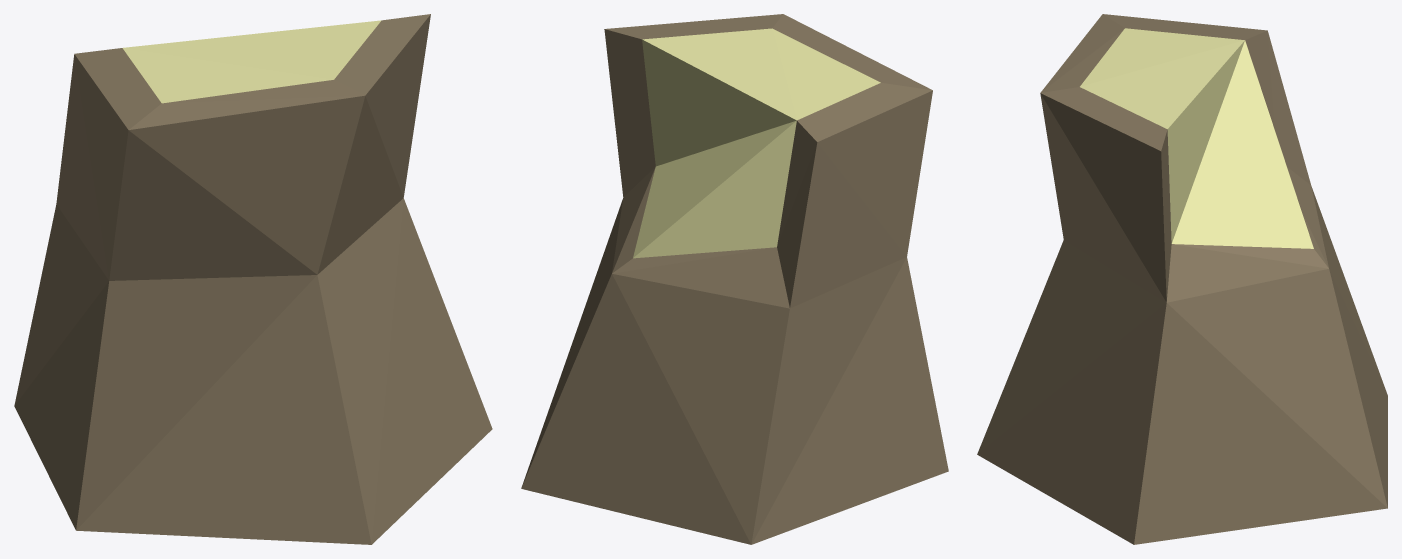
The model's file is Apple_0_1.fbx.
3 renders of one model, left to right at view 1: azimuth 30°, elevation 25°; view 2: azimuth 150°, elevation 25°; view 3: azimuth 270°, elevation 25°, orthographic. The views are drawn at different scales.
Parts seen in each view (by area): view 1: Apple_0_1; view 2: Apple_0_1; view 3: Apple_0_1.
Boxes of the visible parts, box(x1,y1,x2,y2) form: Apple_0_1: box(14, 14, 492, 544); Apple_0_1: box(521, 14, 948, 544); Apple_0_1: box(977, 14, 1387, 544).
Size of the model in its own units: 63.51 by 60.99 by 60.37.
